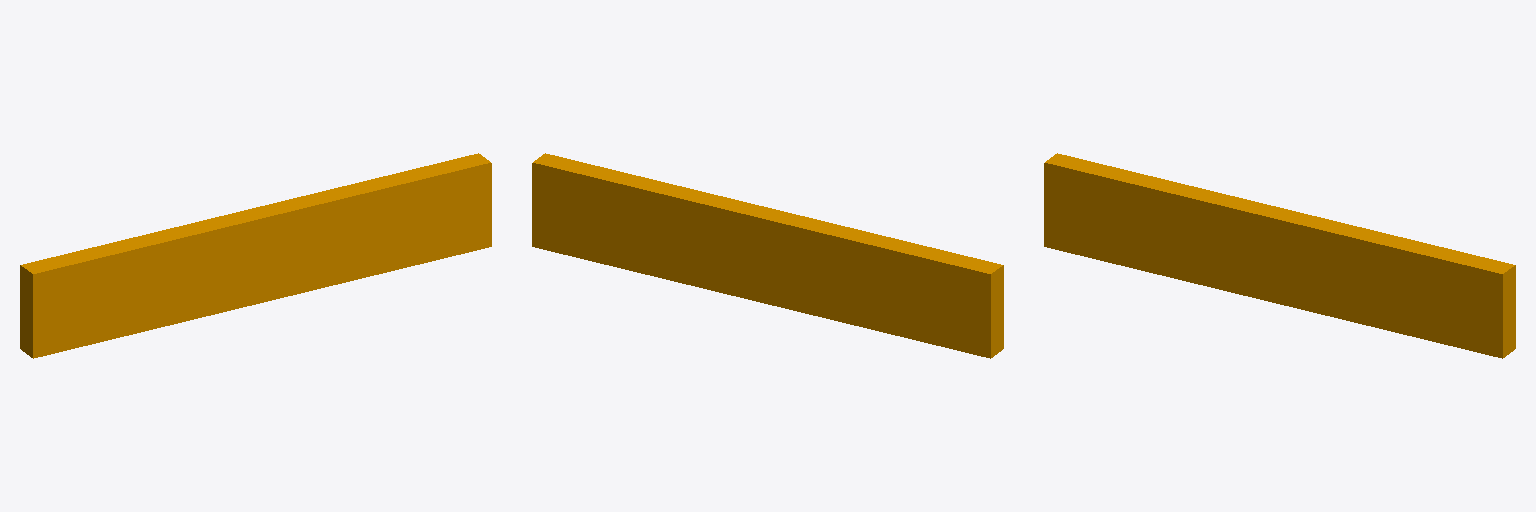
URDF robot description (wall_large):
<?xml version="1.0"?>

<robot name="wall_large">
   <link name="base_link">
     <inertial>
       <origin xyz="0 0 0" />
       <mass value="50.0" />
       <inertia  ixx="1.0" ixy="0.0"  ixz="0.0"  iyy="100.0"  iyz="0.0"  izz="1.0" />
     </inertial>
     <visual>
       <origin xyz="0 0 0"/>
       <geometry>
         <box size="6.25 0.3 1.1" />
       </geometry>
     </visual>
     <collision>
       <origin xyz="0 0 0"/>
       <geometry>
         <box size="6.25 0.3 1.1" />
       </geometry>
     </collision>
   </link>
   <gazebo>
     <material>IPA/Wall2</material>
   </gazebo>
</robot>

--- What the picture shows (computed from the rendered views, not written in the file) ---
3 views of the same robot in one strip: view 1: azimuth 30°, elevation 25°; view 2: azimuth 150°, elevation 25°; view 3: azimuth 330°, elevation 25° (orthographic).
Robot: wall_large — 1 links, 0 joints (none); root link base_link; default pose: all joints at 0.
Visible links, largest first — view 1: base_link; view 2: base_link; view 3: base_link.
Boxes of the visible links, x1,y1,x2,y2 form: base_link: (20,153,491,358); base_link: (532,153,1003,358); base_link: (1044,153,1515,358).
Bounding box of the posed robot: 6.25 × 0.3 × 1.1 m (x, y, z).
Geometry: primitives only (box / cylinder / sphere), no mesh files.